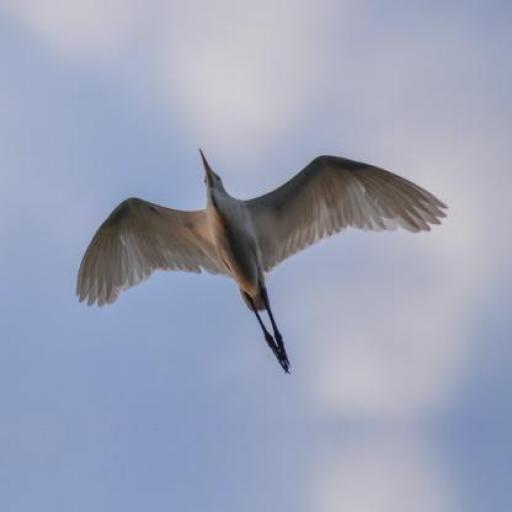bird: (73, 147, 448, 375)
